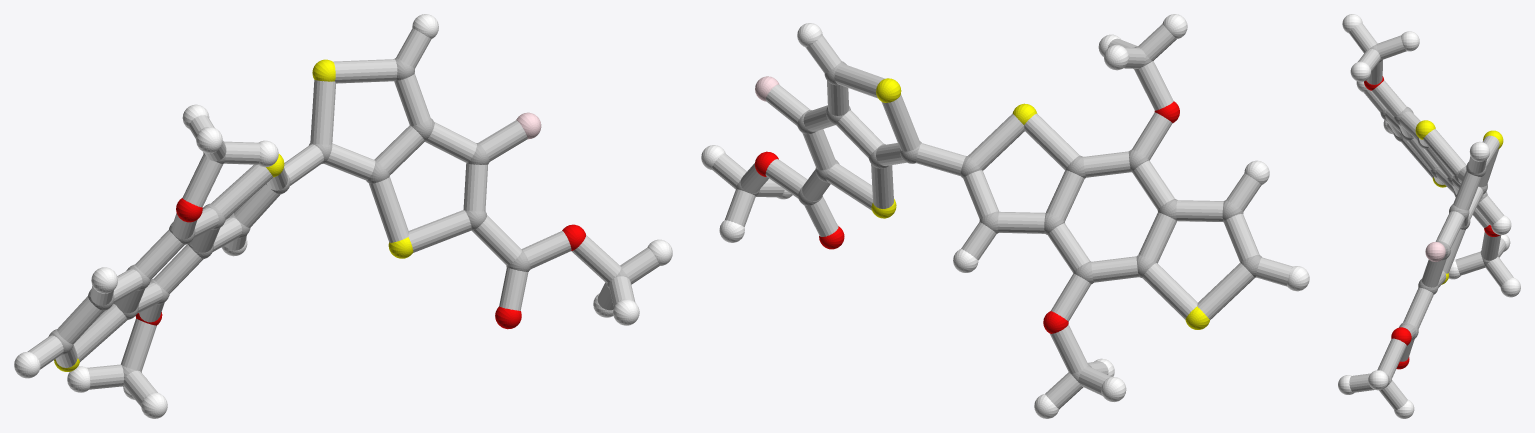
Rendered from Dimethoxy_Benzodithiophene_Phi_25_Theta_120_Methylcarbonyl_3_Fluoro_Thienothiophene.glb.
The picture shows the model from 3 angles, left to right: view 1: azimuth 30°, elevation 25°; view 2: azimuth 150°, elevation 25°; view 3: azimuth 270°, elevation 25°; orthographic projection. The views are drawn at different scales.
Visible parts, largest first — view 1: grp15205, grp8689, grp1, grp13395, grp7241; view 2: grp15205, grp8689, grp1, grp7241, grp13395; view 3: grp15205, grp8689, grp1, grp13395, grp7241, grp14843.
Part boxes in pixels (left/top/right/bottom): grp15205: left=27, top=28, right=659, bottom=406; grp8689: left=14, top=14, right=672, bottom=418; grp1: left=48, top=58, right=628, bottom=386; grp13395: left=135, top=198, right=585, bottom=329; grp7241: left=54, top=59, right=413, bottom=371; grp15205: left=712, top=24, right=1292, bottom=409; grp8689: left=701, top=14, right=1309, bottom=418; grp1: left=736, top=46, right=1261, bottom=382; grp7241: left=871, top=78, right=1209, bottom=329; grp13395: left=754, top=101, right=1179, bottom=333; grp15205: left=1349, top=23, right=1513, bottom=409; grp8689: left=1338, top=14, right=1520, bottom=418; grp1: left=1369, top=44, right=1498, bottom=384; grp13395: left=1364, top=76, right=1499, bottom=369; grp7241: left=1415, top=120, right=1503, bottom=284; grp14843: left=1425, top=242, right=1445, bottom=261.
Size of the model in its own units: 16.71 by 8.77 by 5.38.
